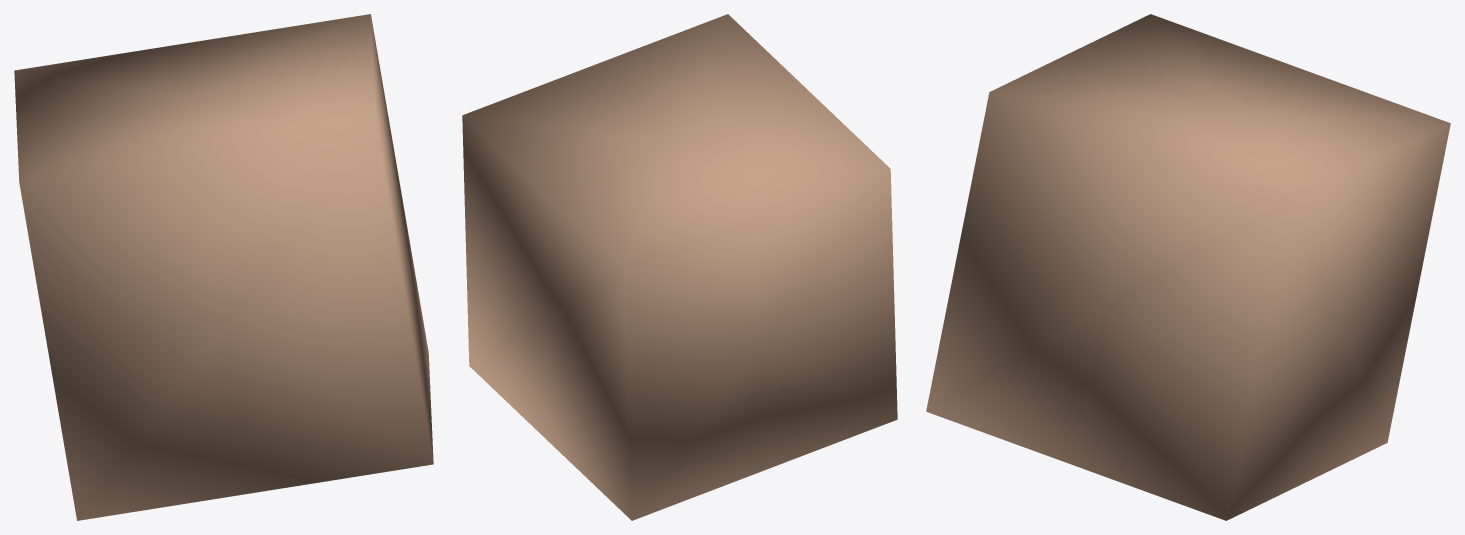
3 renders of one model, left to right at view 1: azimuth 30°, elevation 25°; view 2: azimuth 150°, elevation 25°; view 3: azimuth 270°, elevation 25°, orthographic. The views are drawn at different scales.
Visible parts, largest first — view 1: cube; view 2: cube; view 3: cube.
Part boxes in pixels (x1,y1,x2,y2): cube: (14,14,433,520); cube: (462,14,897,520); cube: (926,14,1450,520).
Size of the model in its own units: 215 by 189 by 227.
